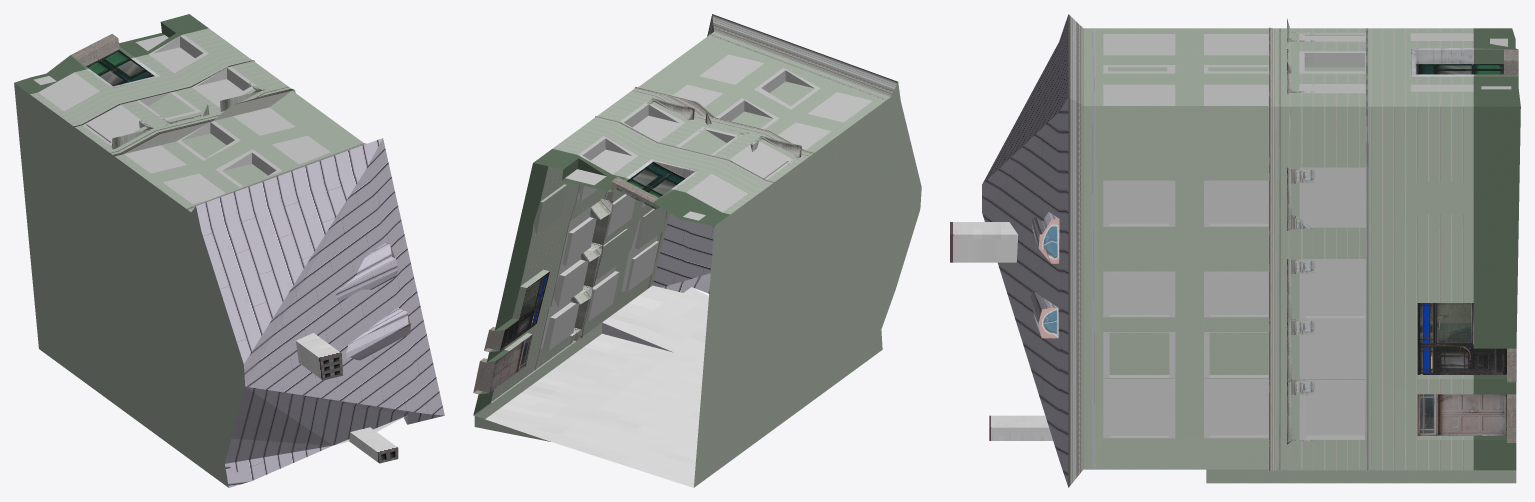
File: Dunkri_1-origo.obj
3 views of the same model, side by side, from view 1: azimuth 30°, elevation 25°; view 2: azimuth 150°, elevation 25°; view 3: azimuth 270°, elevation 25° (orthographic). The views are drawn at different scales.
Parts seen in each view (by area): view 1: Dunkri_1; view 2: Dunkri_1; view 3: Dunkri_1.
Boxes of the visible parts, <box> form: Dunkri_1: <box>14,14,444,487</box>; Dunkri_1: <box>473,14,921,487</box>; Dunkri_1: <box>950,14,1520,487</box>.
Bounding box in the file's own units: 11.56 × 13.5 × 18.98.
